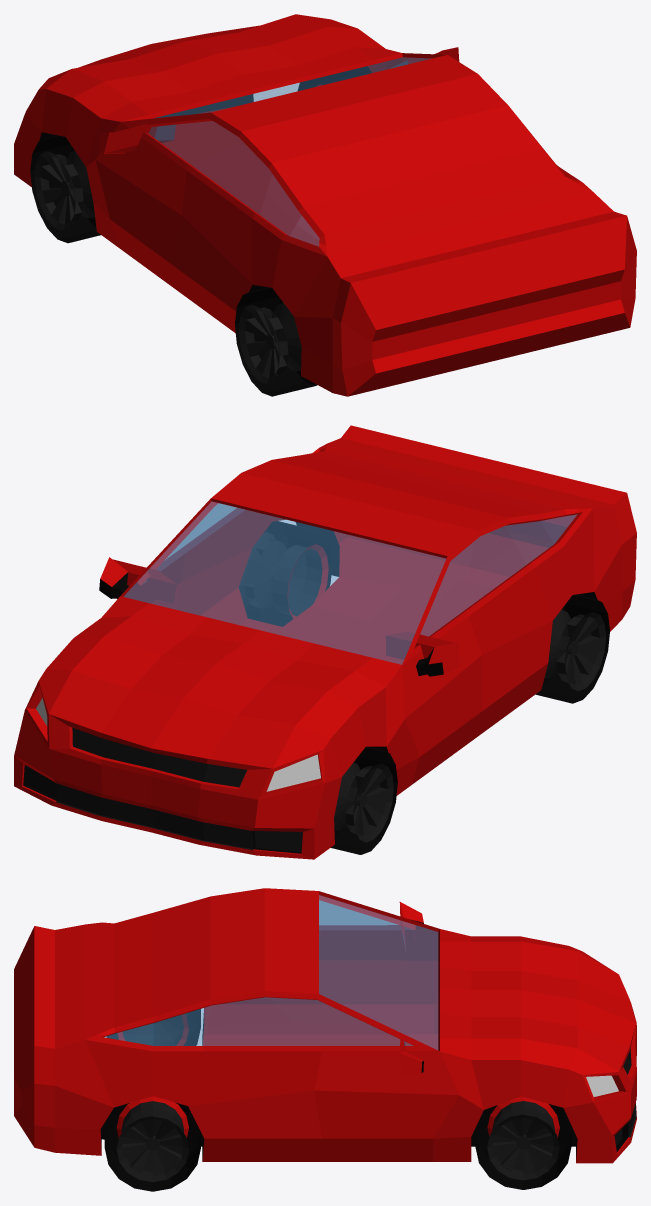
File: low-poly-car.obj
3 renders of one model, top to bottom at view 1: azimuth 30°, elevation 25°; view 2: azimuth 150°, elevation 25°; view 3: azimuth 270°, elevation 25°, orthographic. The views are drawn at different scales.
Parts seen in each view (by area): view 1: Sports_car_Cube, Wheels.Bk.001_Cube.004, Wheels.Fr.001_Cube.003, Wheels.Fr_Cube.002; view 2: Sports_car_Cube, Wheels.Bk_Cube.001, Wheels.Bk.001_Cube.004, Wheels.Fr.001_Cube.003; view 3: Sports_car_Cube, Wheels.Bk_Cube.001, Wheels.Fr_Cube.002, Wheels.Bk.001_Cube.004.
Part boxes in pixels (<box>): Sports_car_Cube: <box>14,14,636,396</box>; Wheels.Bk.001_Cube.004: <box>235,287,317,396</box>; Wheels.Fr.001_Cube.003: <box>30,135,100,243</box>; Wheels.Fr_Cube.002: <box>305,66,371,88</box>; Sports_car_Cube: <box>14,425,636,859</box>; Wheels.Bk_Cube.001: <box>239,521,332,626</box>; Wheels.Bk.001_Cube.004: <box>535,594,609,703</box>; Wheels.Fr.001_Cube.003: <box>330,746,397,854</box>; Sports_car_Cube: <box>14,888,636,1163</box>; Wheels.Bk_Cube.001: <box>104,1096,200,1191</box>; Wheels.Fr_Cube.002: <box>475,1096,571,1189</box>; Wheels.Bk.001_Cube.004: <box>107,1009,200,1045</box>.
Bounding box in the file's own units: 2.57 × 1.41 × 4.37.
